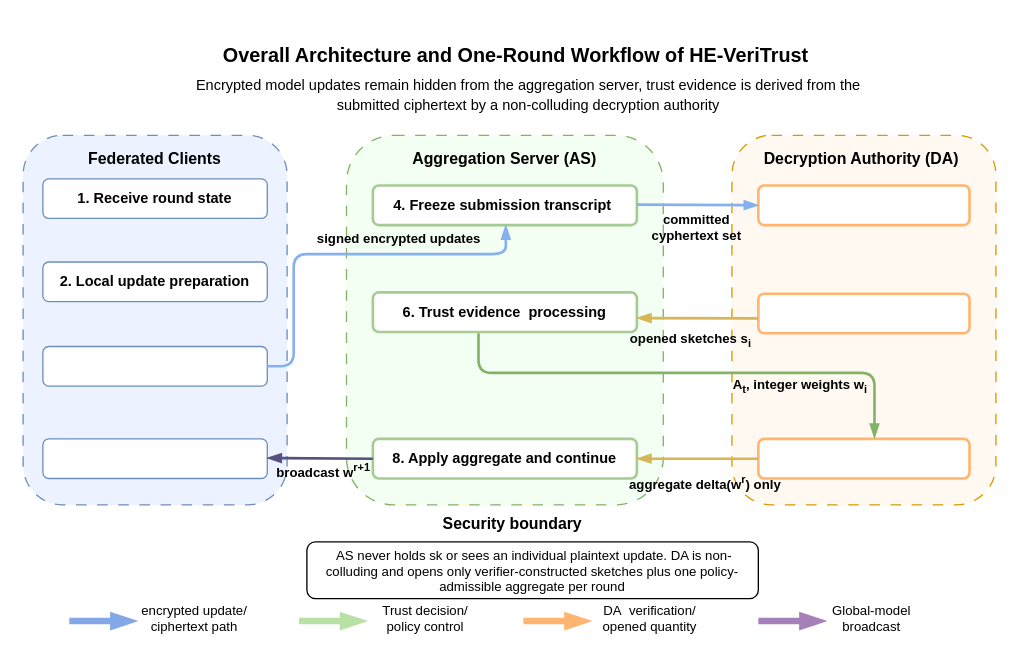
Some shapes in this 1019 by 660 pixel diagram are drawn without their labels. The shapes that lost their labels are listed below. From the top down, each one's box as (x1, y1, x2, y2) in pixels, then its label:
(756, 183, 970, 226): 5. Commit-then-reveal verification
(756, 292, 970, 334): Cyphertext-drived sketch
(42, 345, 267, 386): 3. Summit signed ciphertext bundle
(42, 438, 267, 478): Next round
(756, 437, 970, 479): 7. Policy-checked aggregate opening
